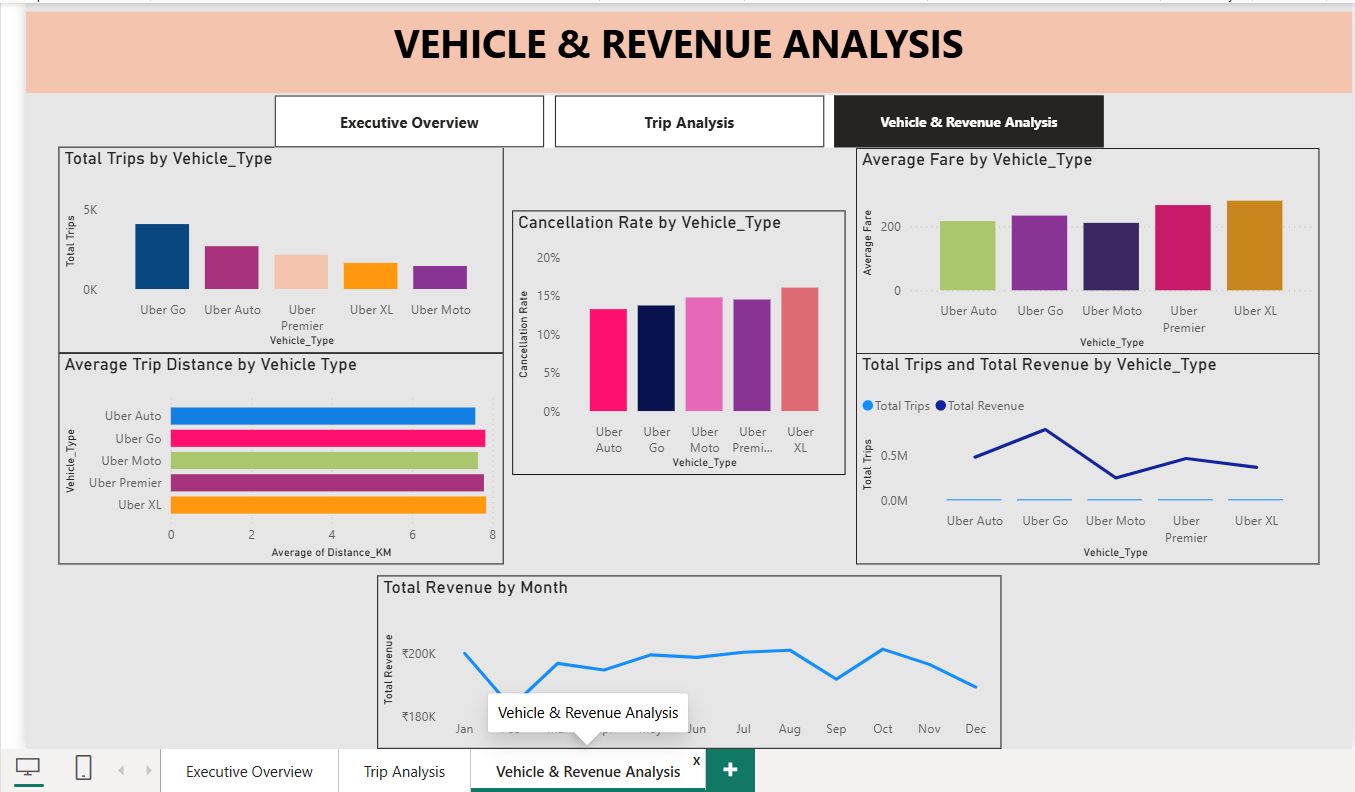

The page's visual inventory and layout, read from the dashboard file:
{"tool":"powerbi","page":{"name":"Vehicle & Revenue Analysis","canvas":[1280,720],"ordinal":2},"visuals":[{"type":"lineChart","fields":{"Category":["DateTable.Month"],"Y":["Raw_Data.Total Revenue"]},"box":[338.9,552.4,602,167.6],"z":0},{"type":"clusteredColumnChart","fields":{"Category":["Raw_Data.Vehicle_Type"],"Y":["Raw_Data.Average Fare"]},"box":[801,139.4,447.6,199.3],"z":1000},{"type":"clusteredBarChart","title":"Average Trip Distance by Vehicle Type","fields":{"Category":["Raw_Data.Vehicle_Type"],"Y":["Avg(Raw_Data.Distance_KM)"]},"box":[31.8,337.5,429.2,204.2],"z":2000},{"type":"clusteredColumnChart","fields":{"Category":["Raw_Data.Vehicle_Type"],"Y":["Raw_Data.Cancellation Rate"]},"box":[469.6,200.5,321.6,255.6],"z":3000},{"type":"lineStackedColumnComboChart","fields":{"Category":["Raw_Data.Vehicle_Type"],"Y":["Raw_Data.Total Trips"],"Y2":["Raw_Data.Total Revenue"]},"box":[801,337.5,447.6,204.2],"z":4000},{"type":"clusteredColumnChart","fields":{"Category":["Raw_Data.Vehicle_Type"],"Y":["Raw_Data.Total Trips"]},"box":[31.8,138.2,429.2,199.3],"z":5000},{"type":"textbox","box":[0,8.6,1280.3,78.3],"z":6000},{"type":"pageNavigator","box":[239.7,89.3,800,50],"z":7000}]}

Visuals, with their boxes in screenshot pixels (x1, y1, x2, y2):
lineChart - DateTable.Month x Raw_Data.Total Revenue: select_region(371, 573, 1000, 748)
clusteredColumnChart - Raw_Data.Vehicle_Type x Raw_Data.Average Fare: select_region(854, 142, 1321, 350)
"Average Trip Distance by Vehicle Type" clusteredBarChart: select_region(51, 349, 499, 562)
clusteredColumnChart - Raw_Data.Vehicle_Type x Raw_Data.Cancellation Rate: select_region(508, 206, 844, 473)
lineStackedColumnComboChart - Raw_Data.Vehicle_Type x Raw_Data.Total Trips: select_region(854, 349, 1321, 562)
clusteredColumnChart - Raw_Data.Vehicle_Type x Raw_Data.Total Trips: select_region(51, 141, 499, 349)
textbox: select_region(18, 5, 1354, 87)
pageNavigator: select_region(268, 90, 1103, 142)
